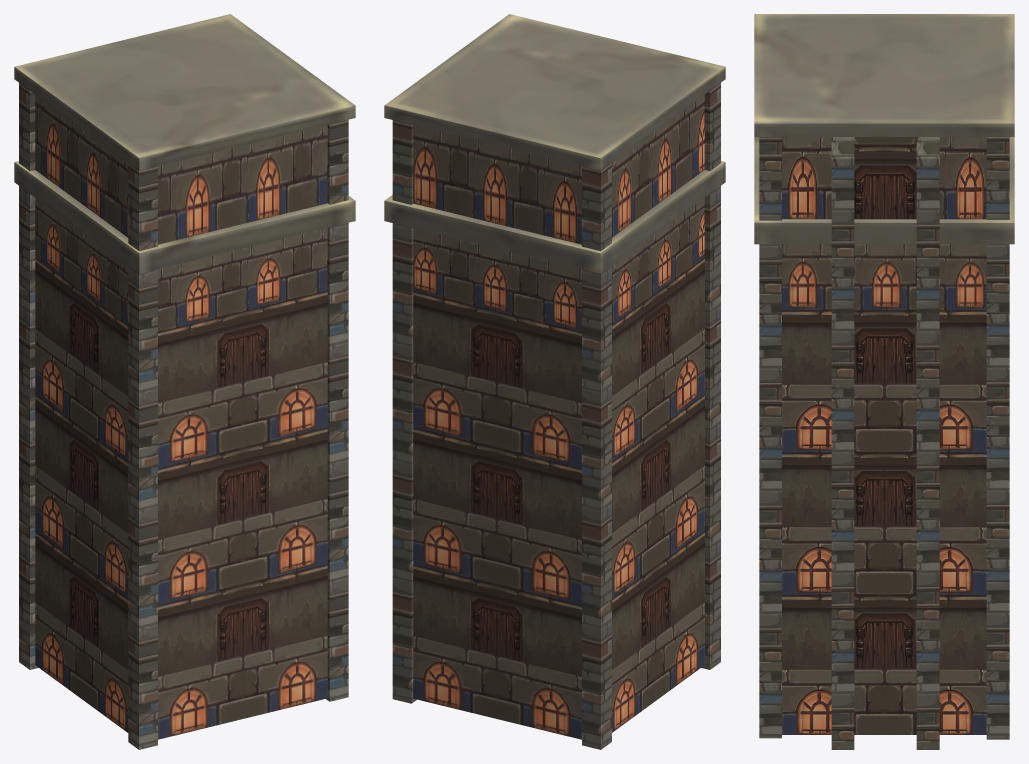
Rendered from fangzi_01.FBX.
3 renders of one model, left to right at view 1: azimuth 30°, elevation 25°; view 2: azimuth 150°, elevation 25°; view 3: azimuth 270°, elevation 25°, orthographic. The views are drawn at different scales.
Parts seen in each view (by area): view 1: 对象351, Box447, 对象354; view 2: 对象351, Box447, 对象354; view 3: 对象351, 对象354, Box447.
Part boxes in pixels (<box>): 对象351: <box>35,95,327,739</box>; Box447: <box>14,14,355,273</box>; 对象354: <box>19,83,348,749</box>; 对象351: <box>413,95,704,739</box>; Box447: <box>384,14,725,273</box>; 对象354: <box>392,83,720,749</box>; 对象351: <box>782,137,986,734</box>; 对象354: <box>759,137,1009,749</box>; Box447: <box>754,14,1014,244</box>.
Bounding box in the file's own units: 862 × 2183 × 828.
